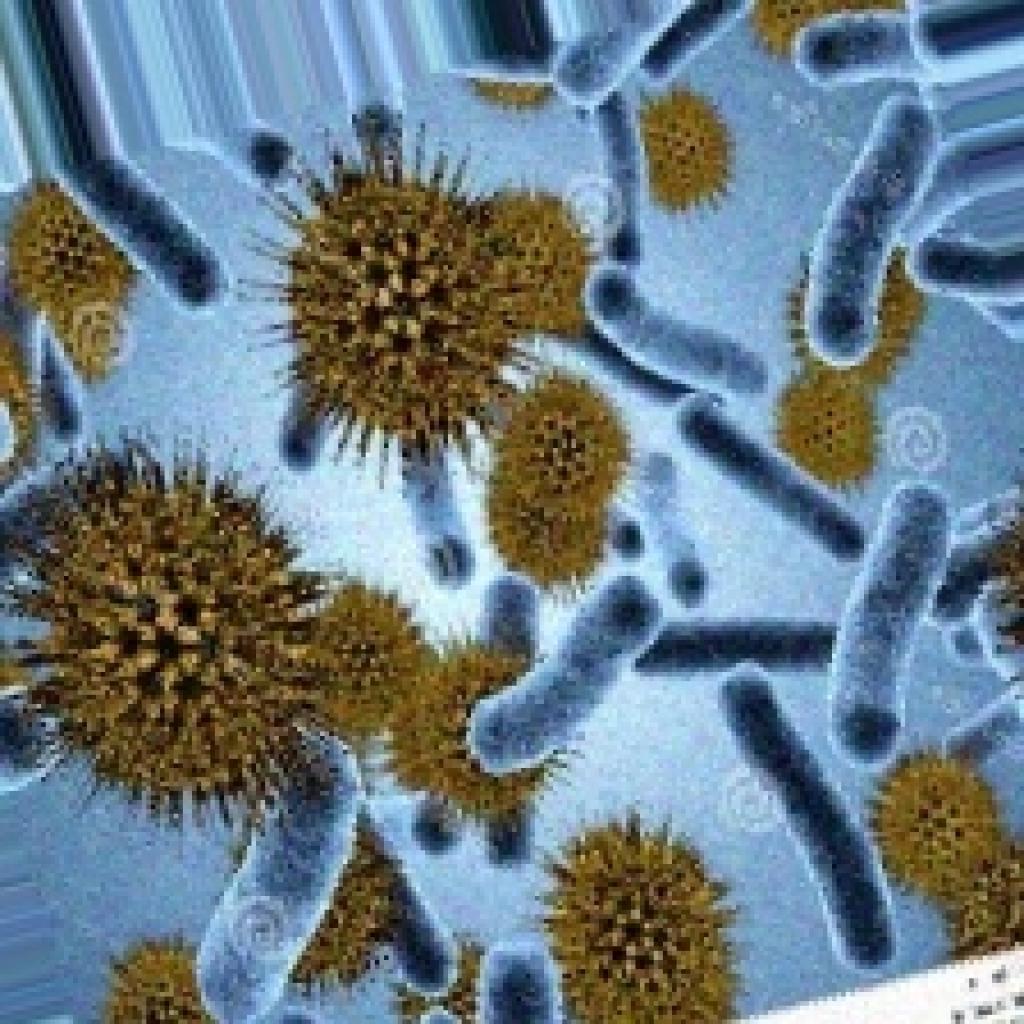Sphericalbacteria: (0, 0, 1019, 1019), (0, 430, 343, 827), (238, 105, 594, 471)
